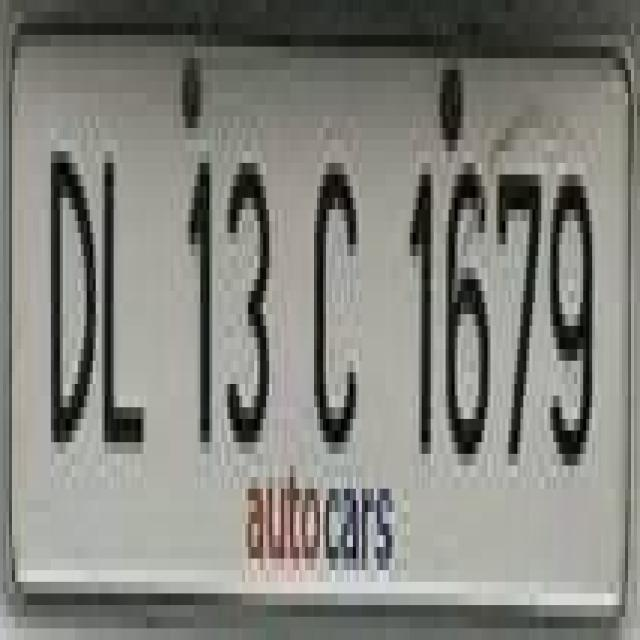license_plate: (0, 12, 619, 605)
